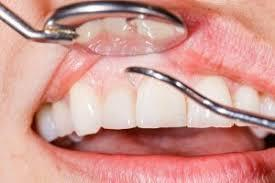normal: (135, 81, 190, 132), (187, 76, 234, 128), (68, 77, 104, 138), (98, 80, 139, 129), (229, 80, 262, 126), (32, 104, 59, 143), (253, 96, 275, 136), (53, 98, 73, 137)
